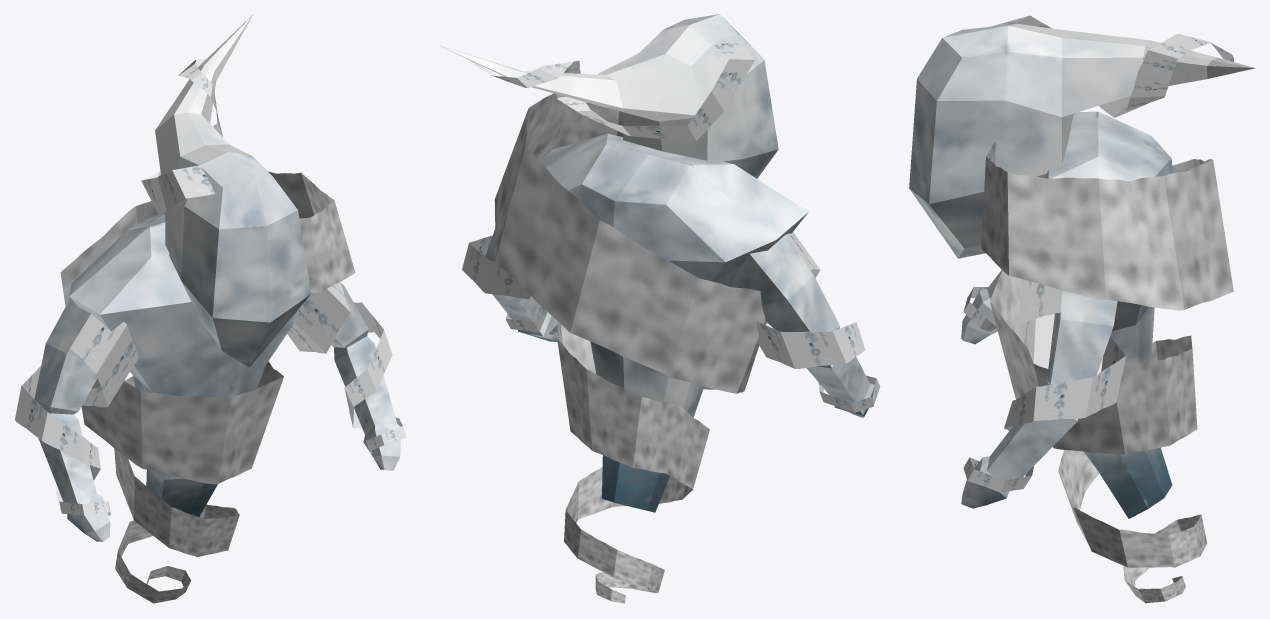
Rendered from djinn.obj.
3 views of the same model, side by side, from view 1: azimuth 30°, elevation 25°; view 2: azimuth 150°, elevation 25°; view 3: azimuth 270°, elevation 25° (orthographic). The views are drawn at different scales.
Parts seen in each view (by area): view 1: BodyRibbon, Head, Body, ArmRight, ArmRightRibbon, ArmLeftRibbon, ArmLeft, HeadRibbon; view 2: BodyRibbon, Body, Head, ArmRight, HeadRibbon, ArmRightRibbon, ArmLeftRibbon, ArmLeft; view 3: BodyRibbon, Head, Body, ArmLeft, ArmLeftRibbon, HeadRibbon, ArmRight, ArmRightRibbon.
Part boxes in pixels (x1,y1,x2,y2): BodyRibbon: (60,171,355,603); Head: (155,15,311,367); Body: (69,214,297,516); ArmRight: (34,298,110,541); ArmRightRibbon: (15,314,138,515); ArmLeftRibbon: (287,282,406,453); ArmLeft: (331,283,400,470); HeadRibbon: (141,58,222,214); BodyRibbon: (494,93,766,603); Body: (540,133,808,512); Head: (436,14,778,178); ArmRight: (730,235,874,417); HeadRibbon: (467,43,754,141); ArmRightRibbon: (756,232,880,412); ArmLeftRibbon: (462,235,557,334); ArmLeft: (485,230,557,341); BodyRibbon: (981,141,1233,603); Head: (909,24,1255,258); Body: (1044,111,1172,518); ArmLeft: (961,290,1117,508); ArmLeftRibbon: (963,279,1125,492); HeadRibbon: (991,15,1233,117); ArmRight: (961,270,1002,344); ArmRightRibbon: (963,286,996,331).
Bounding box in the file's own units: 1.47 × 2 × 1.04.
